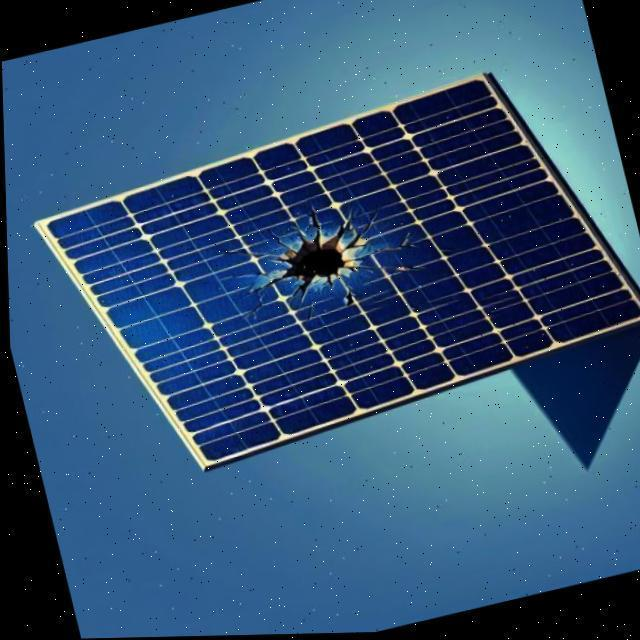Anomaly Solar Panel: (54, 88, 629, 458)
Structural Damage: (271, 219, 374, 297), (339, 233, 416, 264), (341, 264, 426, 281), (235, 273, 284, 300), (211, 247, 281, 264), (234, 294, 266, 326), (212, 269, 287, 282), (352, 208, 379, 242), (264, 231, 296, 257), (332, 291, 367, 312), (282, 286, 306, 311), (301, 205, 320, 235), (313, 274, 334, 295), (303, 303, 311, 323)
